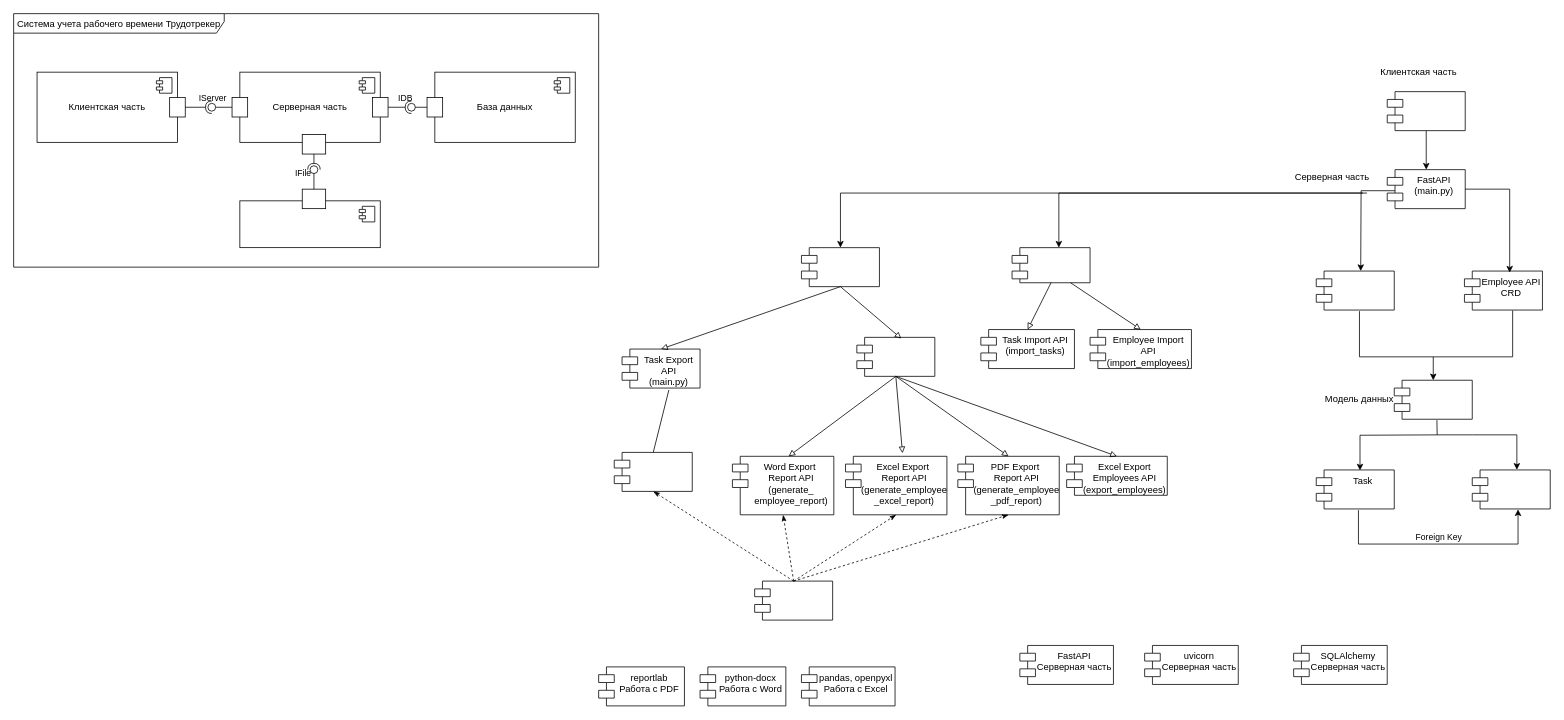
The diagram is 1564 pixels wide and 720 high, and some of its shapes have lost their labels. Here are the shapes that lost their labels. From the top down, the centre of each, then its label:
At (1425,111): "FastAPI (template, static)".
At (309,224): "Файловая система (Шаблоны, отчеты, буфер)".
At (840,267): "Export API (main.py)".
At (1050,265): "Import API (main.py)".
At (1354,290): "Task API CRUD".
At (895,356): "Employee Export API (main.py)".
At (1432,399): "PostgreSQL (database.py)".
At (652,471): "Excel Export API (export_tasks)".
At (1510,489): "Employee".
At (793,600): "Initals with family API (export_tasks)".
